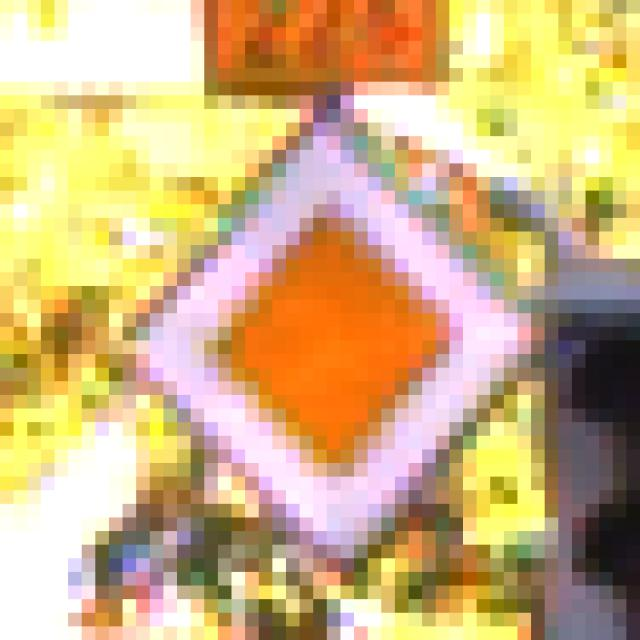Main Road: (69, 69, 559, 573)
